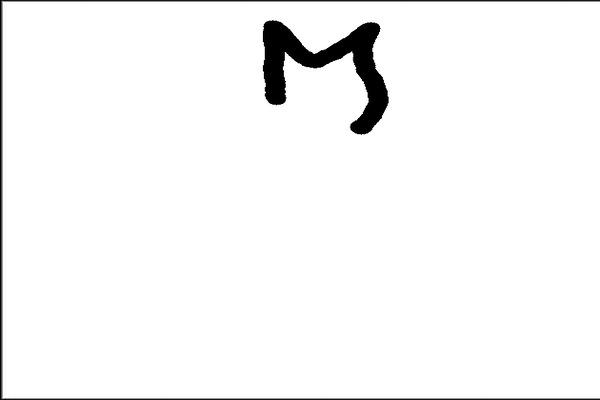M: (251, 17, 394, 132)
